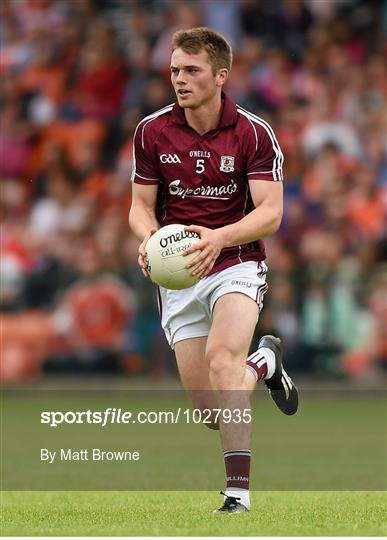ball: (149, 221, 216, 296)
player: (133, 27, 306, 503)
